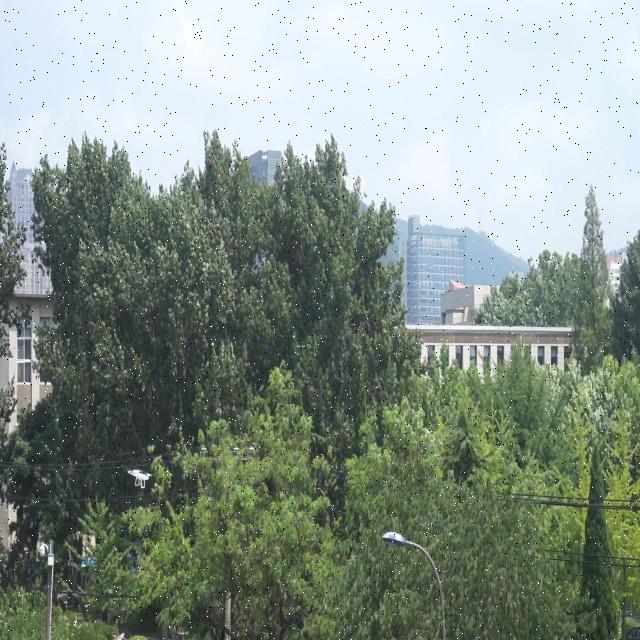UAV: (128, 469, 152, 488)
